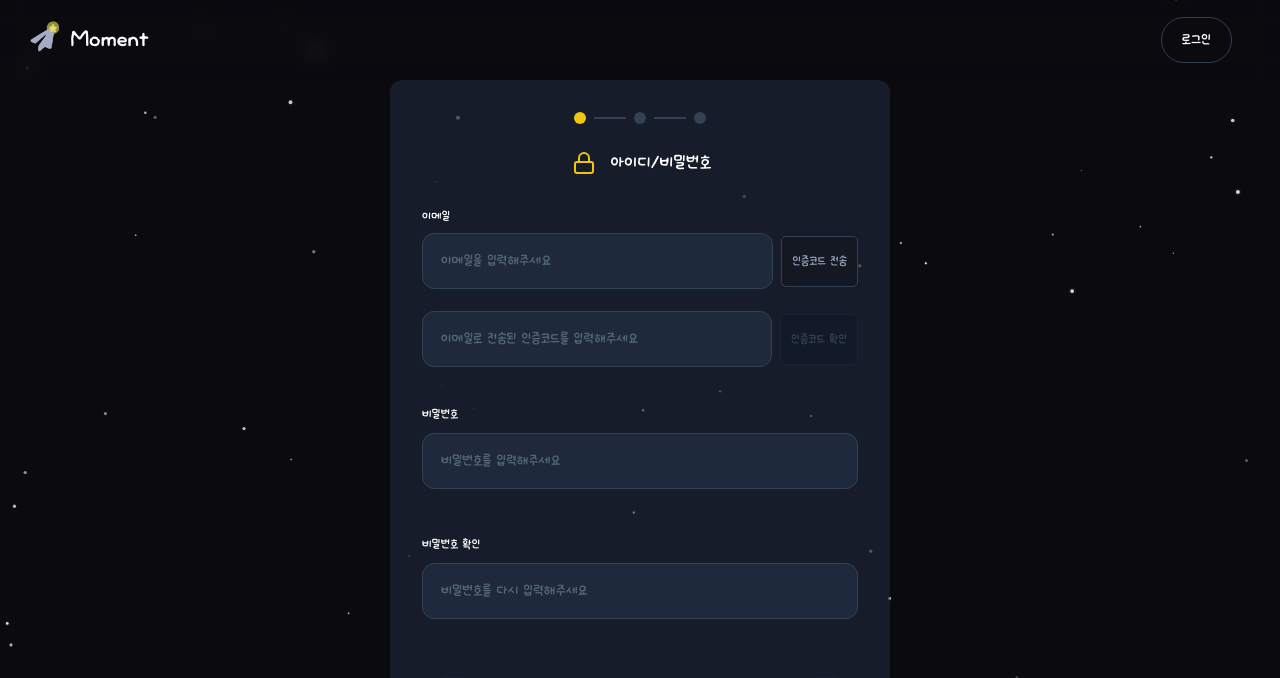
Test: 회원가입 › 시나리오 2: 유효성 검사 › 비밀번호와 비밀번호 확인이 다르면 에러 메시지가 표시된다
Type "Valid123!" into the password field labelled "비밀번호".
click(640, 461); type("Valid123!")  # box [422,433,858,489]
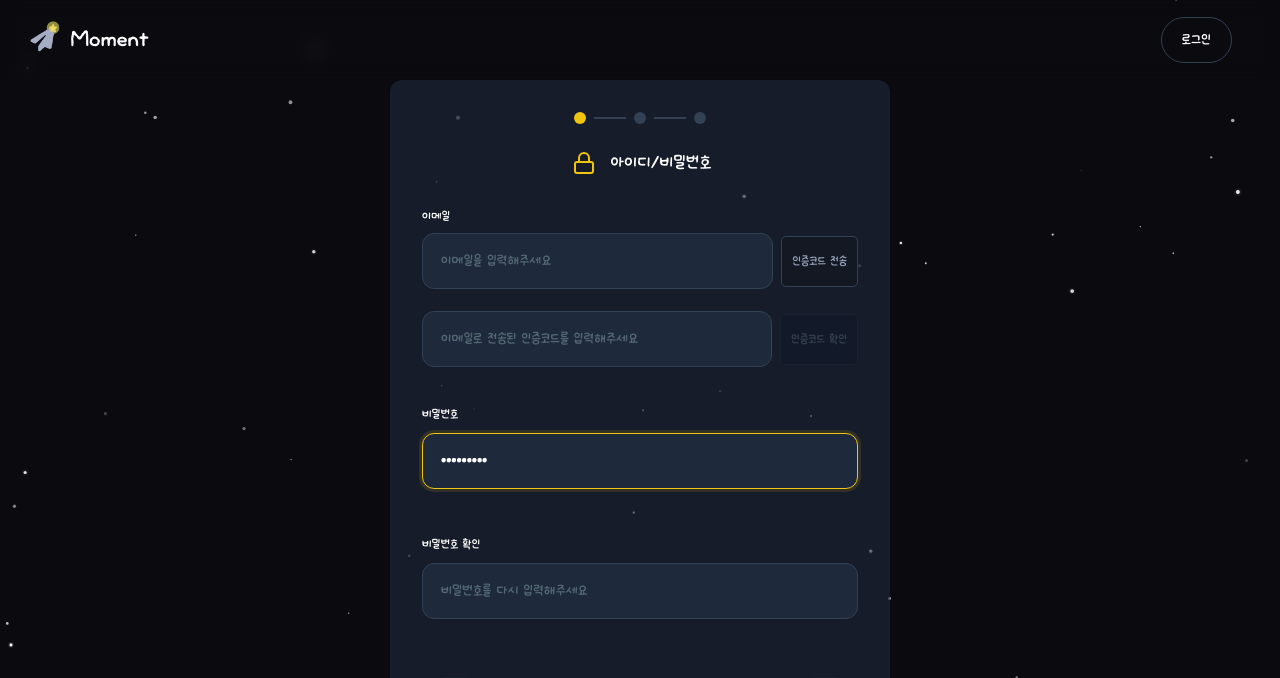
Type "Different1!" into the password field with id "rePassword".
click(640, 591); type("Different1!")  # box [422,563,858,619]
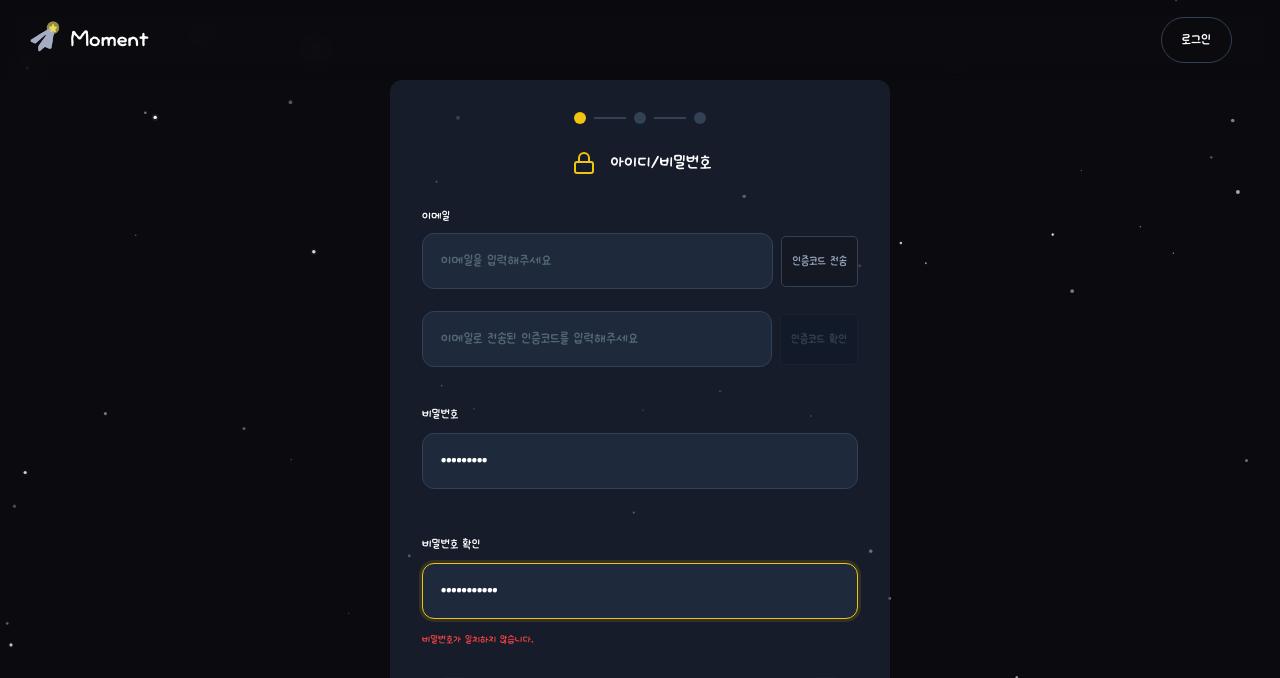
expect the text "비밀번호가 일치하지 않습니다." is shown: met, box [422,633,534,646]
